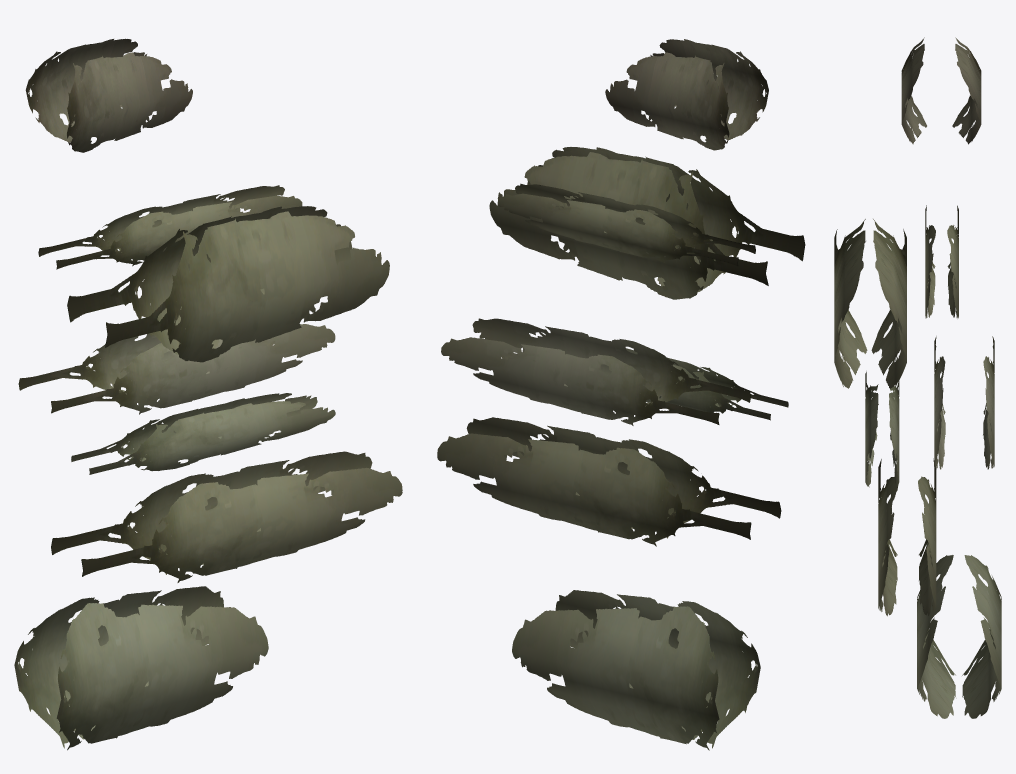
File: props_coalmines_foliage_clump1.glb
3 views of the same model, side by side, from view 1: azimuth 30°, elevation 25°; view 2: azimuth 150°, elevation 25°; view 3: azimuth 270°, elevation 25° (orthographic). The views are drawn at different scales.
Visible parts, largest first — view 1: models/props_coalmines/foliage_clump1; view 2: models/props_coalmines/foliage_clump1; view 3: models/props_coalmines/foliage_clump1.
Part boxes in pixels (<box>): models/props_coalmines/foliage_clump1: <box>14,38,402,750</box>; models/props_coalmines/foliage_clump1: <box>437,39,805,750</box>; models/props_coalmines/foliage_clump1: <box>834,37,1001,718</box>.
Size of the model in its own units: 66.79 by 143 by 33.21.
Materials: 1 (1 with a texture image).
